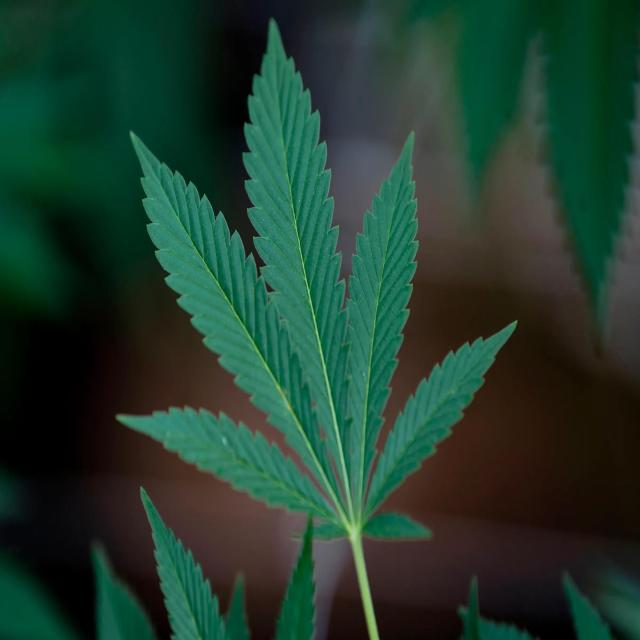cannabis: (114, 21, 518, 640), (536, 0, 640, 351), (140, 488, 252, 640), (272, 533, 319, 640)
